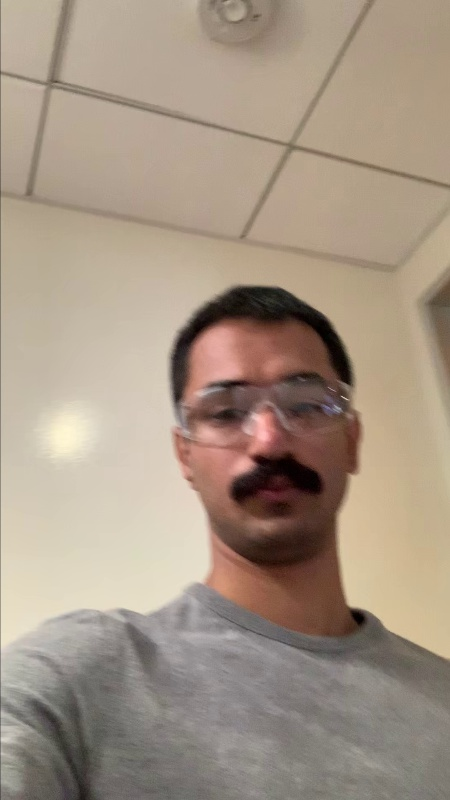glasses: (170, 368, 363, 436)
